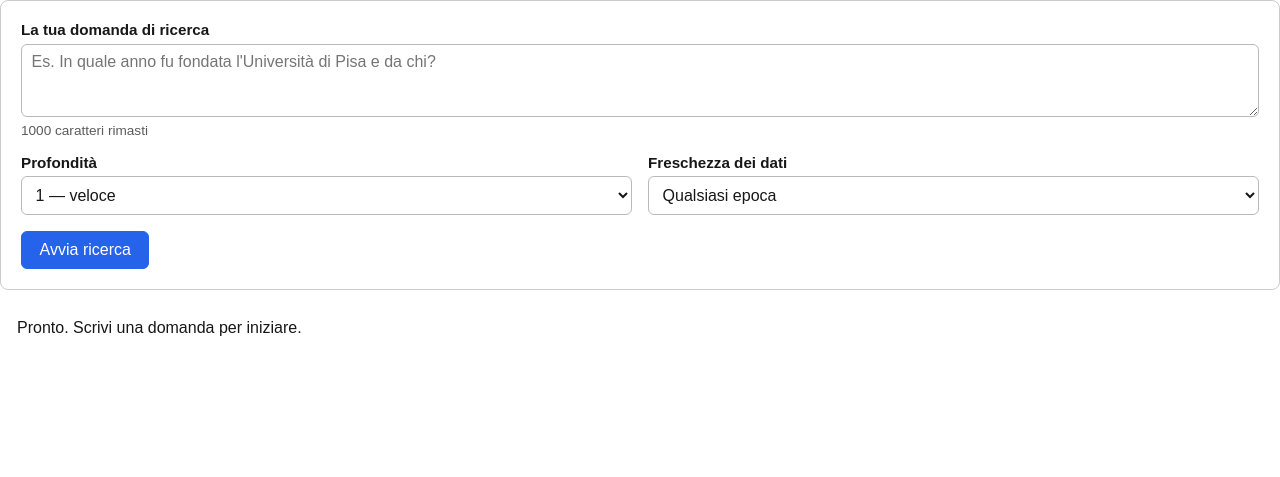
Scenario: ResearchRun › 429 → messaggio rate-limit non sensibile
The image size is (1280, 477).
Type "In quale anno fu fondata l'Università di Pisa e da chi?" into the text box labelled "La tua domanda di ricerca" at (640, 80), box [21,44,1259,117]
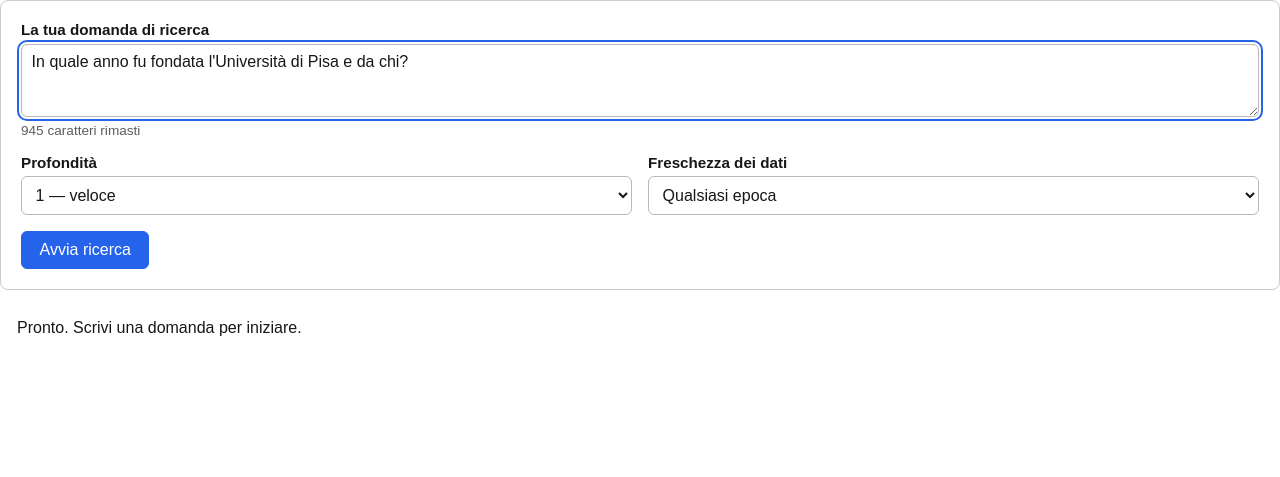
Click the button "Avvia ricerca" at (85, 250), box [21,231,150,269]
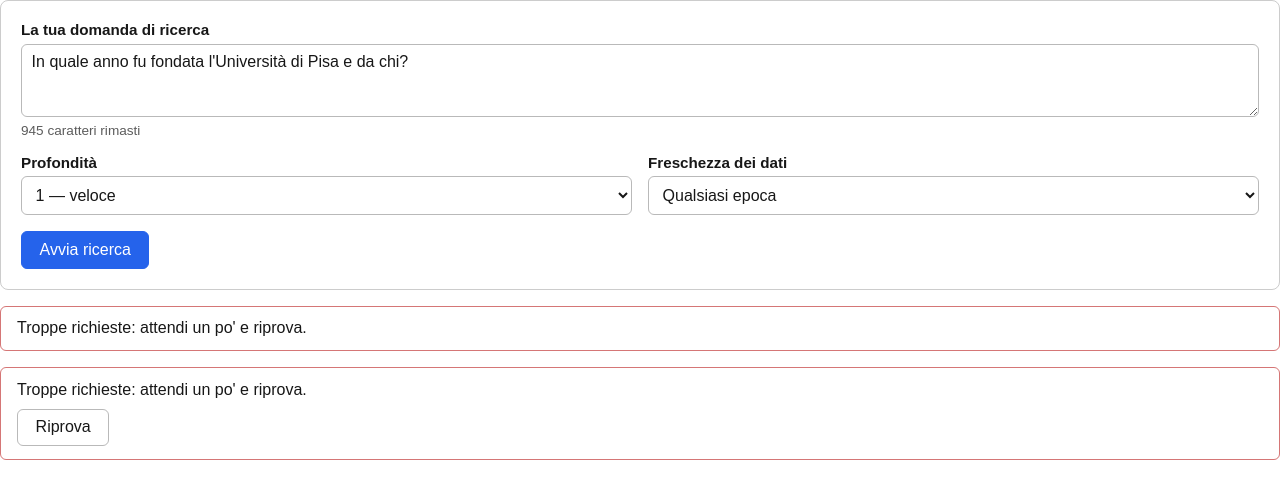
Check: the 1st text "Troppe richieste: attendi un po' e riprova." is shown, box [17,319,307,337]
